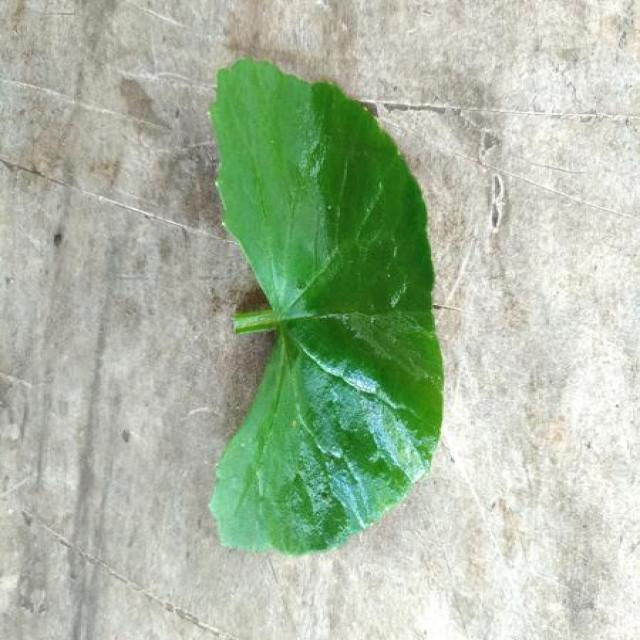bhrami: (210, 59, 443, 554)
